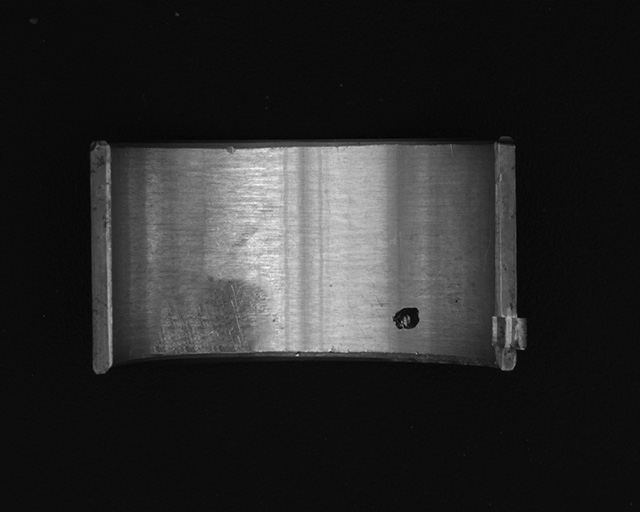blot: (392, 307, 421, 331)
bruise: (225, 145, 236, 156)
scratch: (147, 275, 279, 355)
